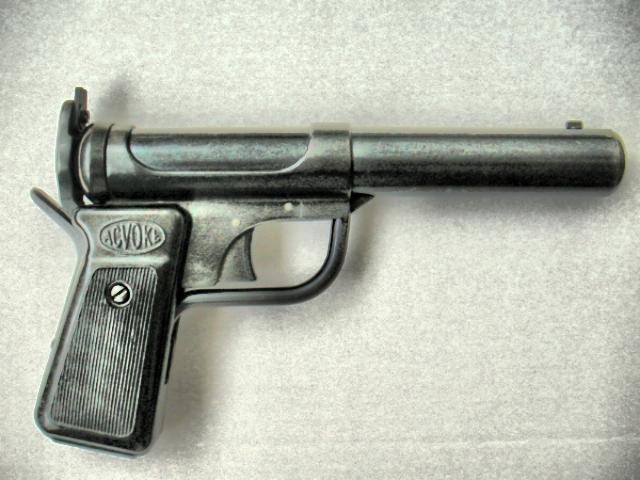pistol: (30, 85, 628, 450)
